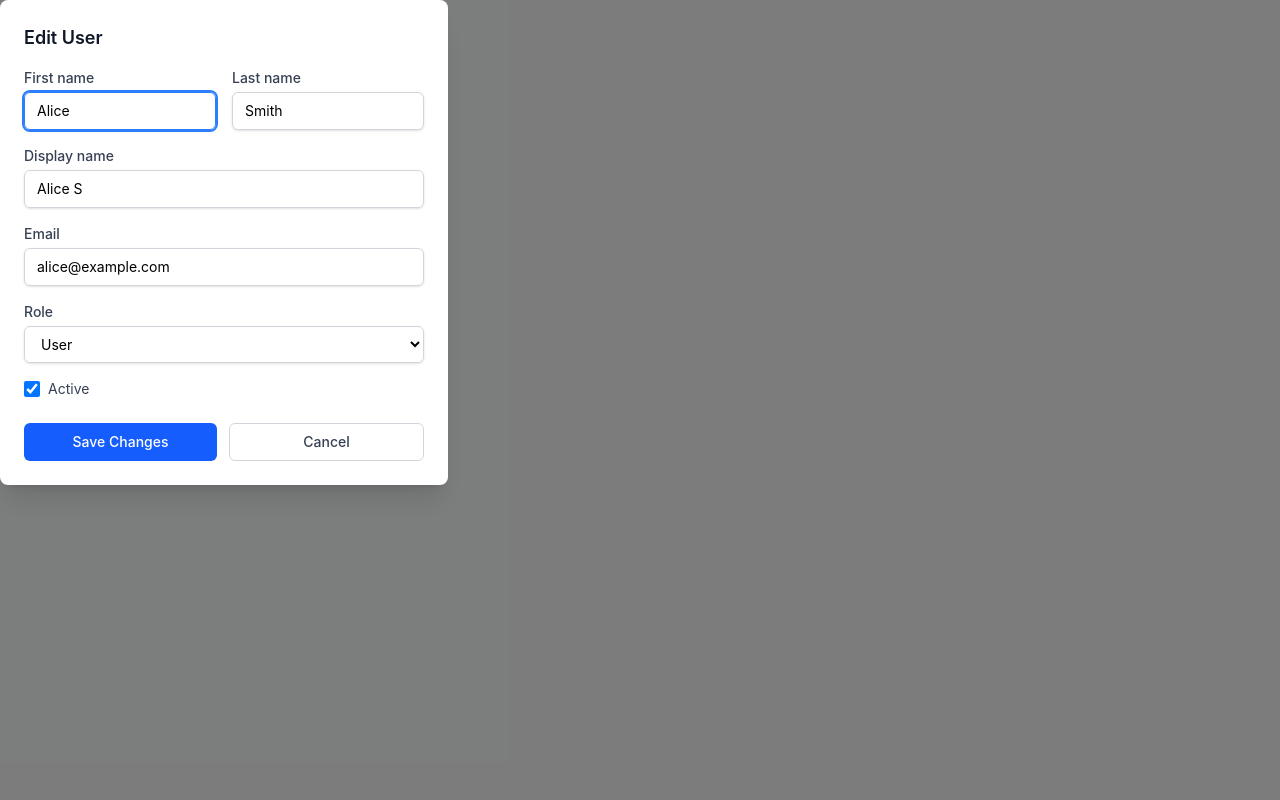
EditUserModal › shows form-level server error for generic ApiError
Click the button "Save Changes" at (120, 442), box 24,423 -> 217,461
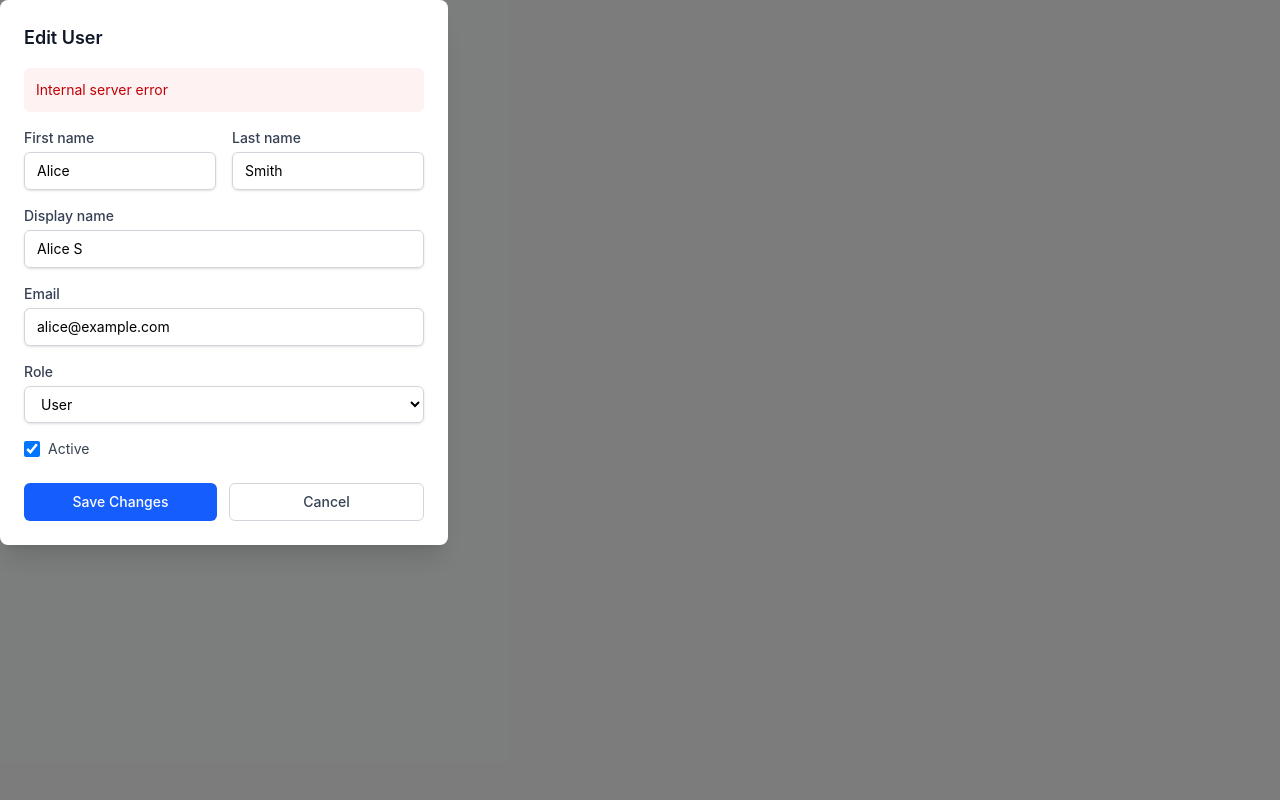
Now the message reads "Internal server error", box 36,81 -> 168,98
